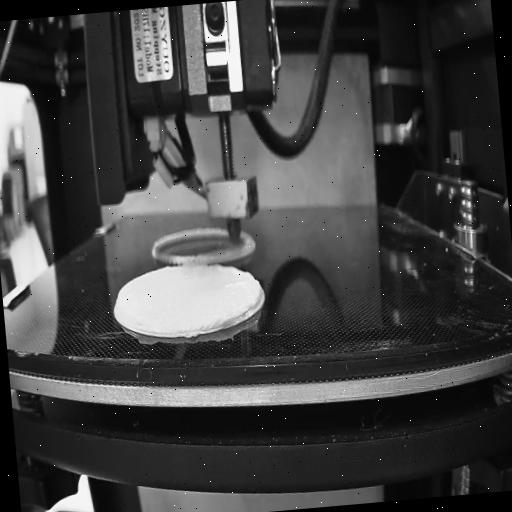over_extrusion: (242, 268, 264, 310)
